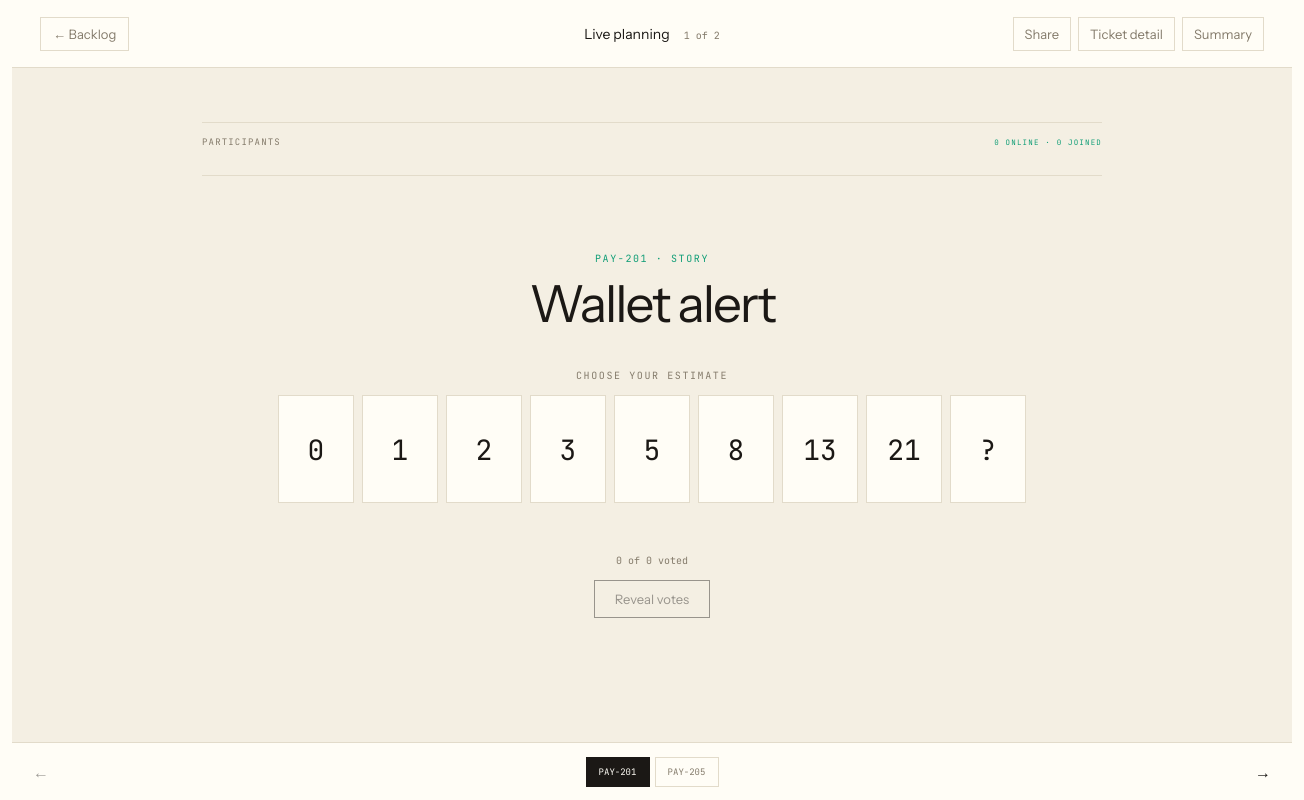
Test: active ticket synchronization › submits and changes a vote without echoing the facilitator value
Expected: the heading "Wallet alert" is shown, [529,276,775,331]
Click the button "8" at (736, 449), box [698,395,774,503]
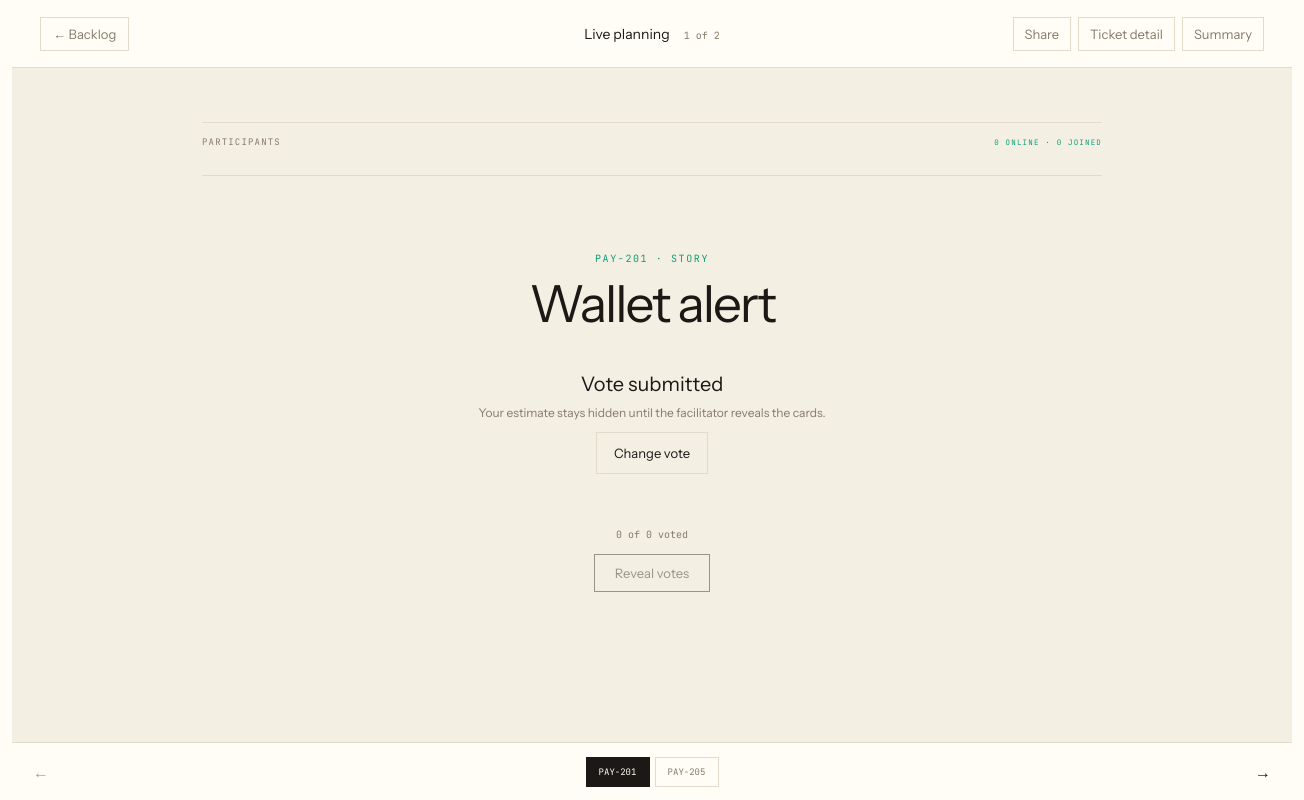
Now the text "Vote submitted" is shown, box [581,372,723,396]
Now the button "8" is gone
Now the text "estimate stays hidden" is shown, box [478,405,826,420]
Click the button "Change vote" at (652, 453), box [596,432,708,474]
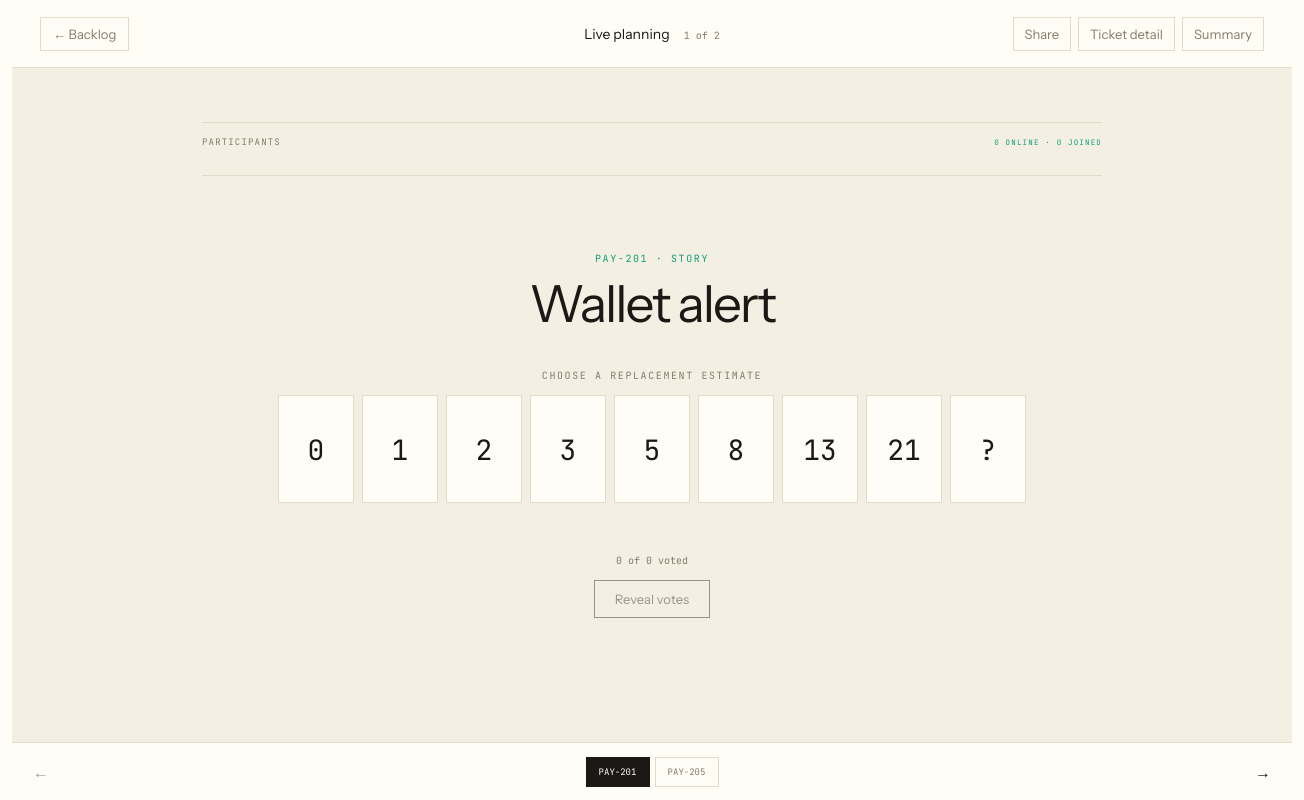
Click the button "13" at (820, 449), box [782,395,858,503]
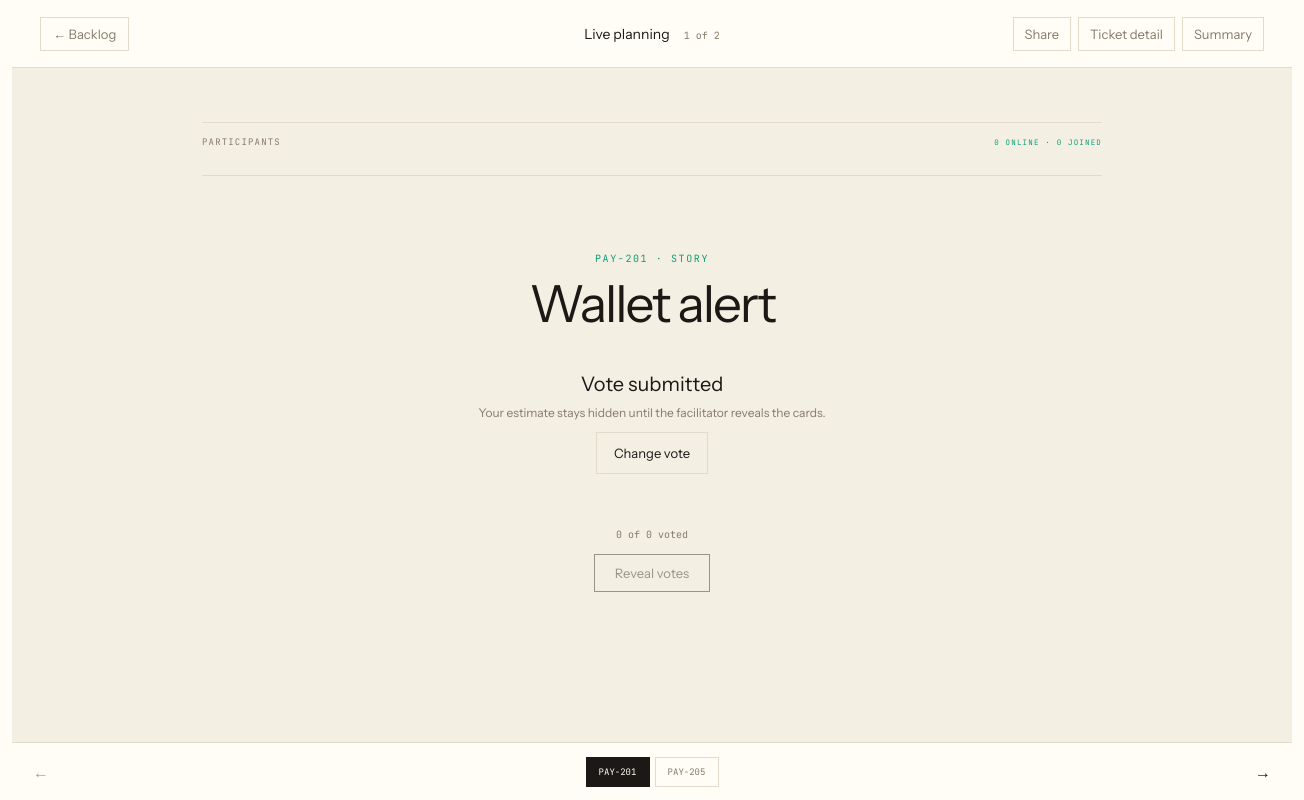
Now the text "Vote submitted" is shown, box [581,372,723,396]
Now the button "13" is gone
